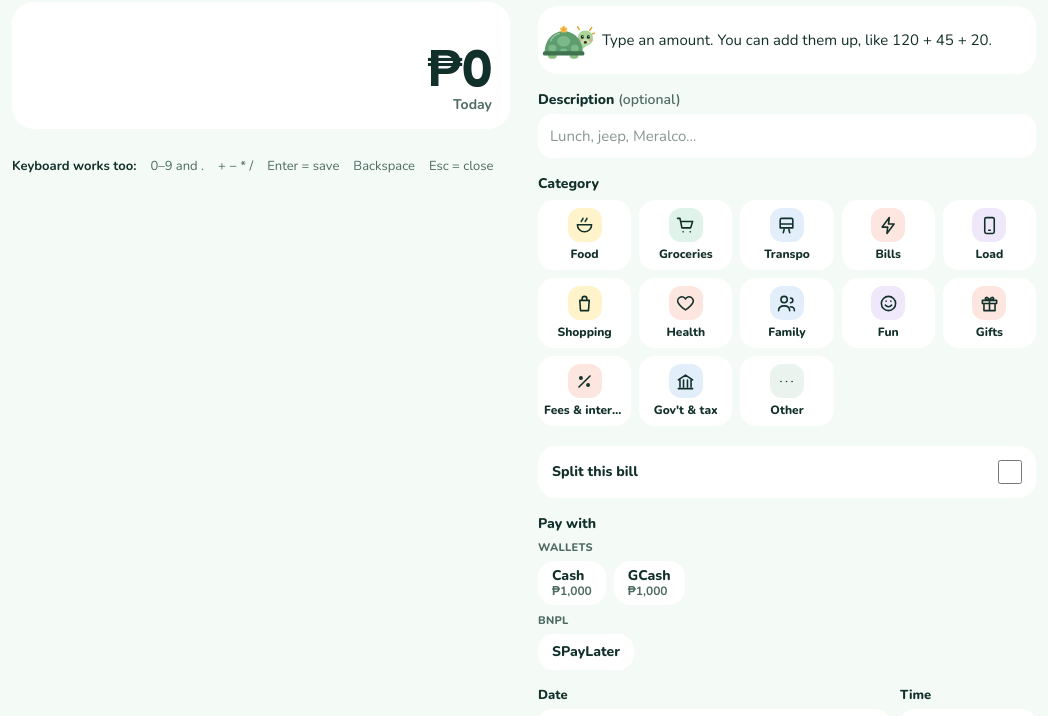
Test: TransactionForm › guesses nothing: Save names what's missing, in order
Type keys "150"
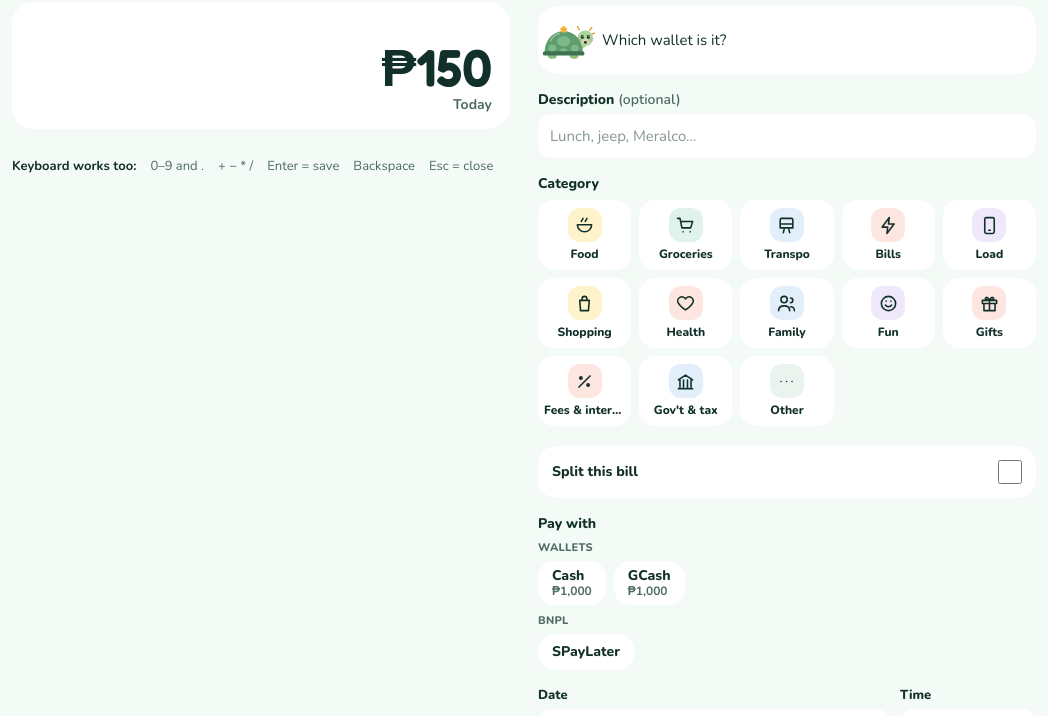
Type "Lunch" into the field labelled "Description (optional)" at (787, 136), box [538,114,1036,158]
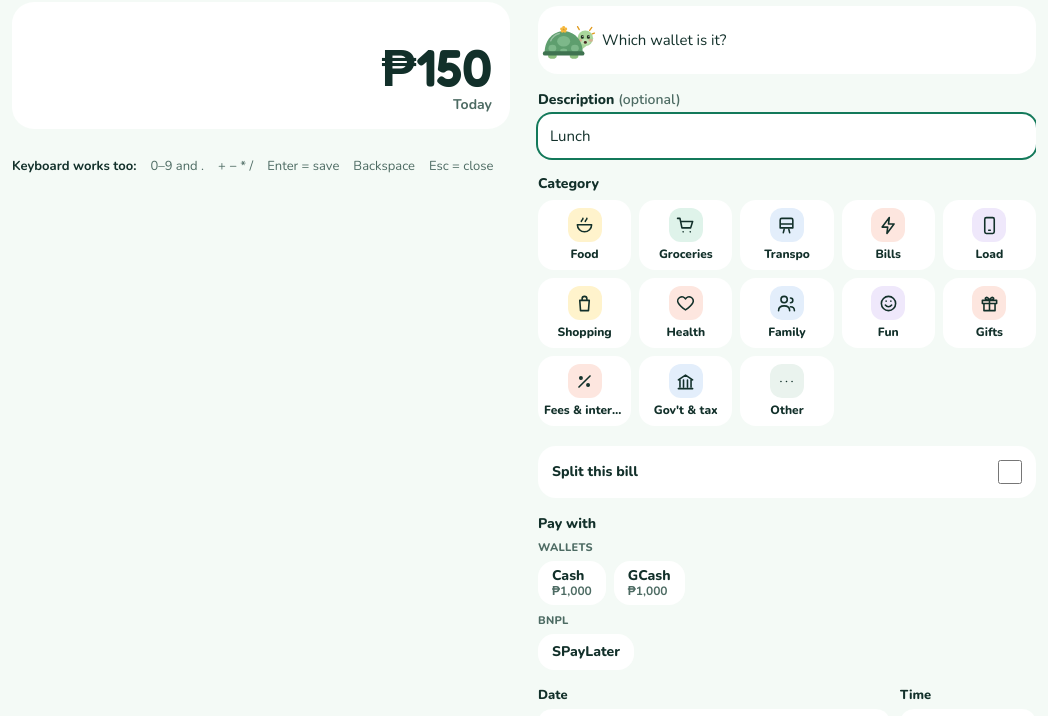
Click the button "Food" at (585, 235), box [538,200,631,270]
(page scrolled)
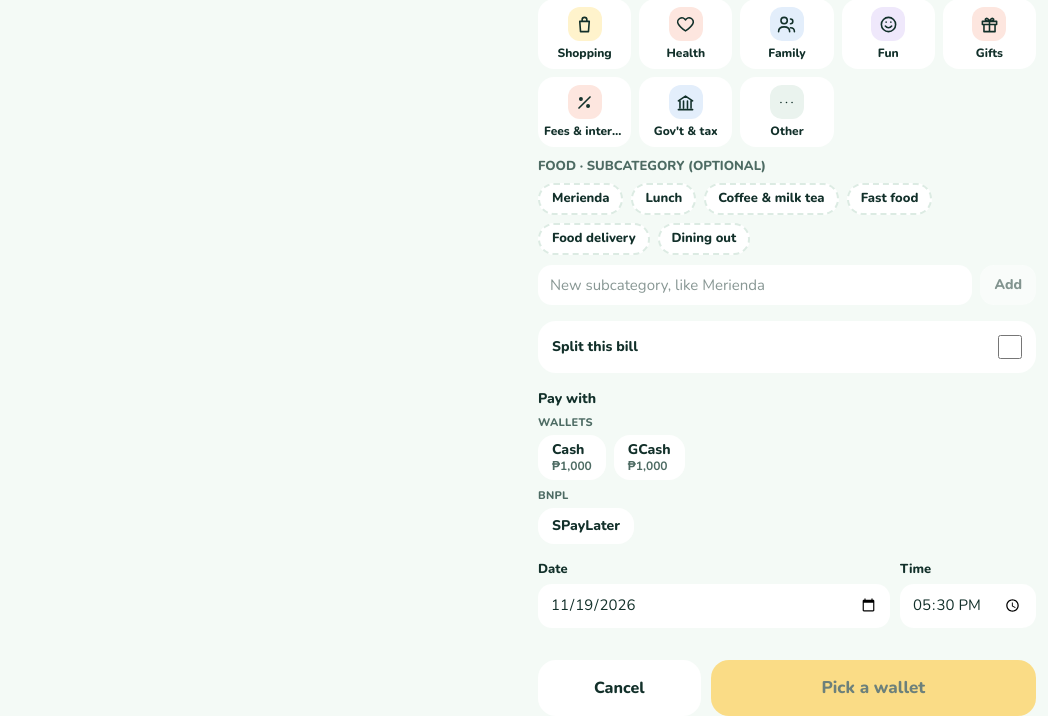
Result: the button "Pick a wallet" is shown at [711,660,1036,715]
Click the button "Cash ₱1,000" at (572, 457), box [538,435,606,480]
(page scrolled)
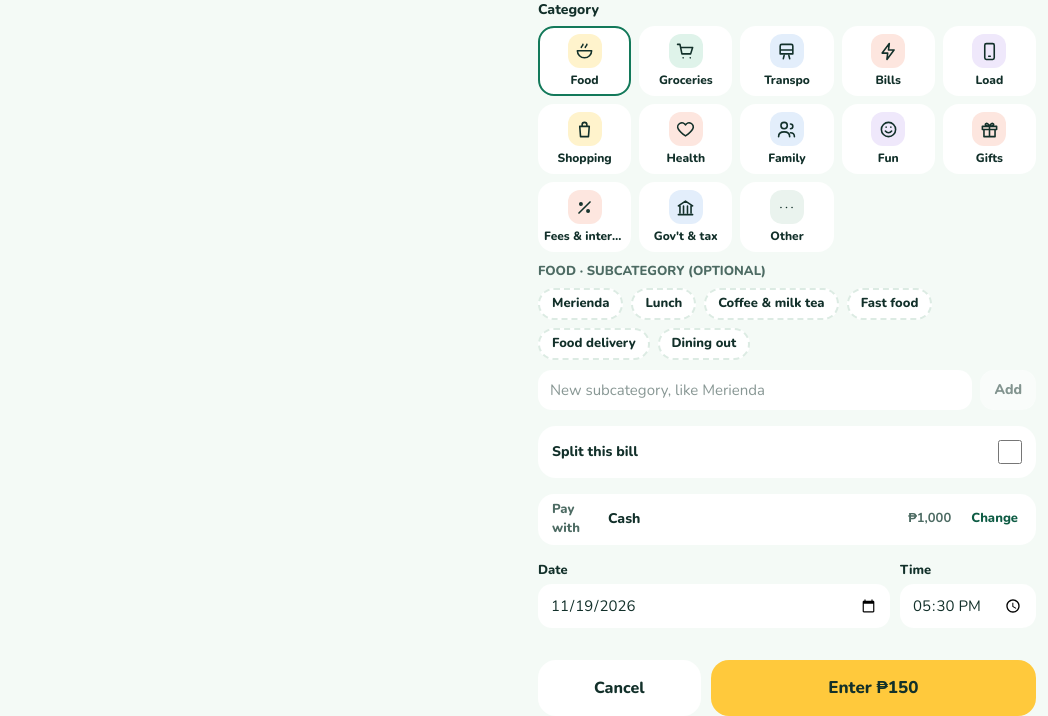
Result: the button "Enter ₱150" is shown at [711,660,1036,715]
Result: the button "Enter ₱150" is enabled at [711,660,1036,715]
